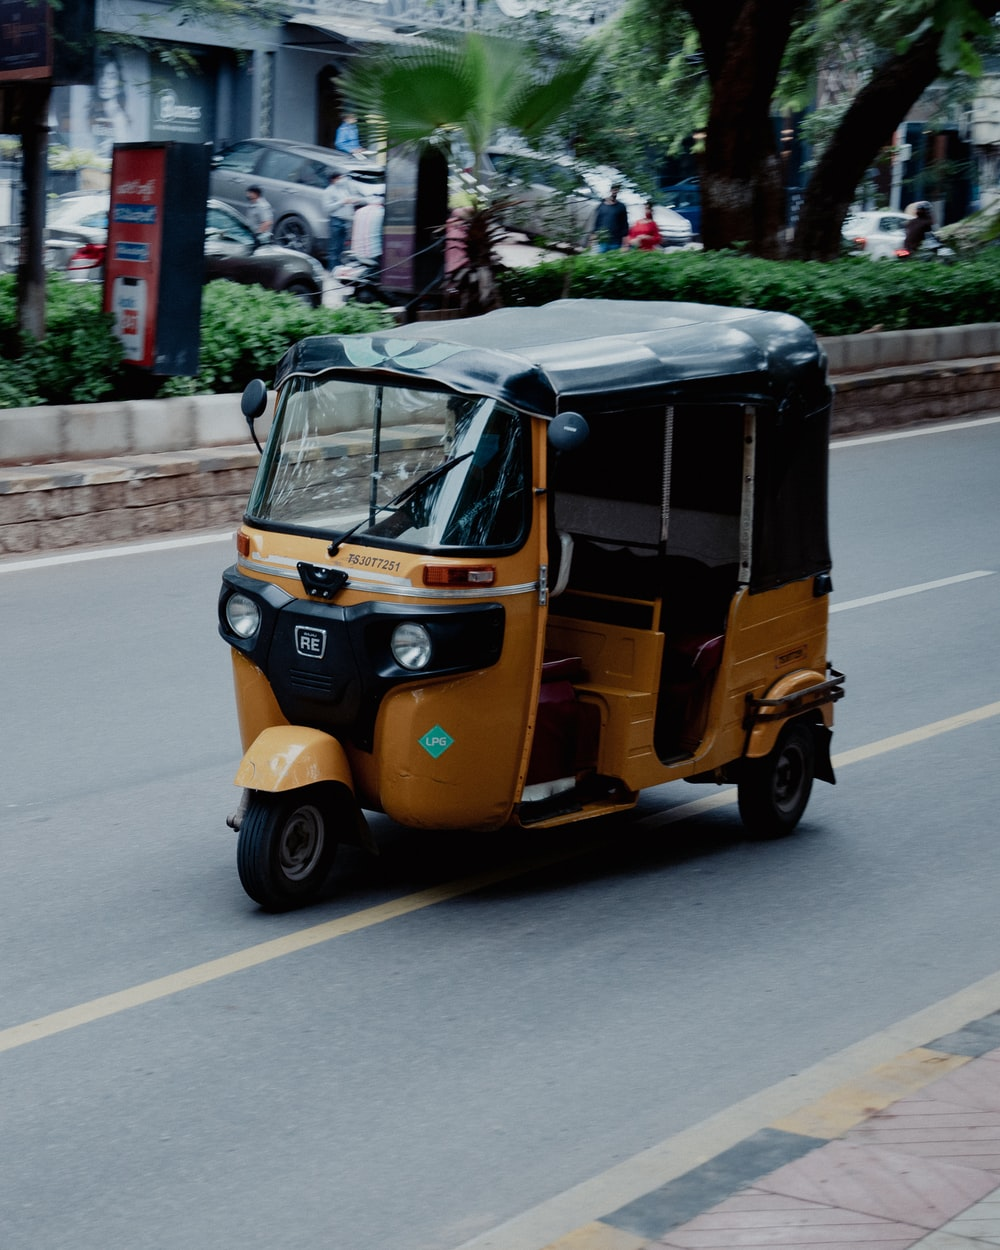auto: (206, 313, 892, 950)
